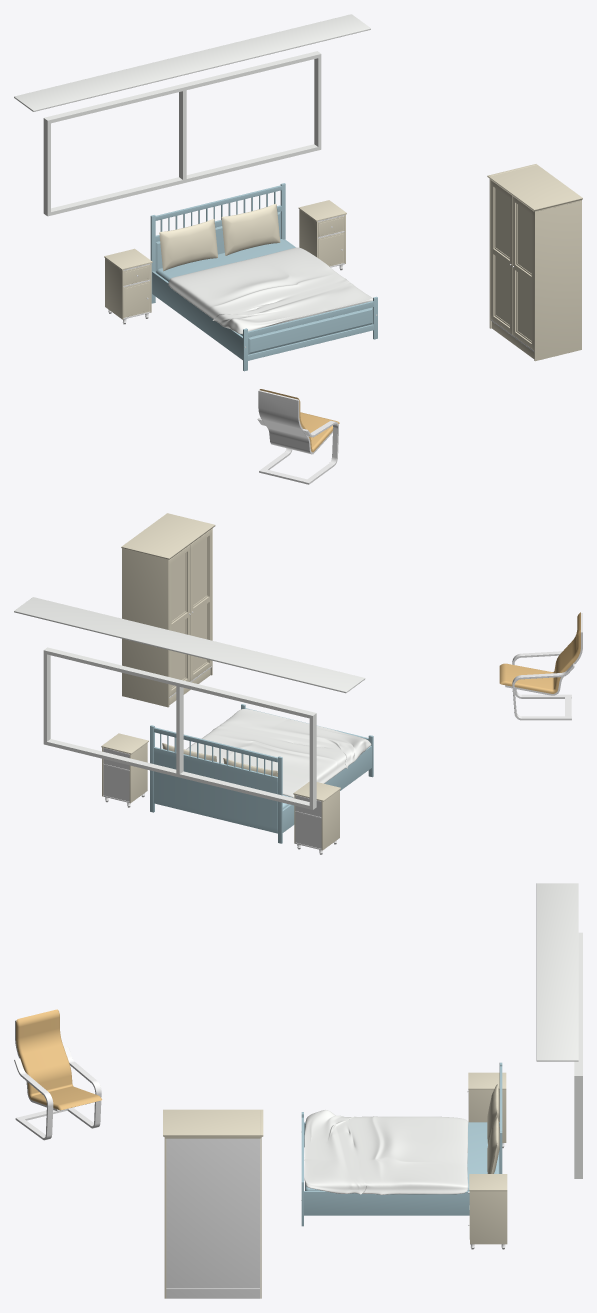
Rendered from zhuwoshitaozhuang.glb.
3 renders of one model, top to bottom at view 1: azimuth 30°, elevation 25°; view 2: azimuth 150°, elevation 25°; view 3: azimuth 270°, elevation 25°, orthographic. The views are drawn at different scales.
Visible parts, largest first — view 1: Cube (×5), fensterbret, Rahmen, pillow (×2), 椅子, bed end, top (×4), bed sides, side (×2), mattress, legs, fensterbret.1; view 2: Cube (×7), fensterbret, bed head, Rahmen, 椅子, side (×2), bed sides, top (×2), fensterbret.1, legs; view 3: Cube (×3), fensterbret, 椅子, bed sides, side (×2), Rahmen, top (×2), mattress, pillow.
Part boxes in pixels (box(x1,y1,x2,y2)): Cube (×5): box(168, 164, 582, 361); fensterbret: box(14, 14, 370, 111); Rahmen: box(43, 51, 321, 216); pillow (×2): box(159, 203, 280, 271); 椅子: box(257, 389, 339, 484); bed end: box(248, 301, 373, 360); top (×4): box(104, 200, 346, 317); bed sides: box(152, 271, 242, 359); side (×2): box(105, 209, 317, 319); mattress: box(156, 239, 294, 335); legs: box(155, 185, 281, 220); fensterbret.1: box(179, 89, 186, 180); Cube (×7): box(103, 513, 371, 848); fensterbret: box(14, 597, 365, 693); bed head: box(154, 747, 277, 833); Rahmen: box(43, 647, 316, 809); 椅子: box(499, 612, 582, 720); side (×2): box(129, 743, 339, 850); bed sides: box(282, 745, 371, 832); top (×2): box(101, 733, 340, 801); fensterbret.1: box(176, 684, 183, 774); legs: box(154, 727, 277, 762); Cube (×3): box(163, 1109, 468, 1298); fensterbret: box(536, 883, 578, 1061); 椅子: box(14, 1009, 101, 1140); bed sides: box(304, 1191, 469, 1215); side (×2): box(468, 1090, 507, 1244); Rahmen: box(574, 932, 582, 1178); top (×2): box(468, 1072, 507, 1191); mattress: box(305, 1122, 499, 1190); pillow: box(487, 1116, 499, 1173).
Size of the model in its own units: 1.17 by 0.6123 by 1.43.
